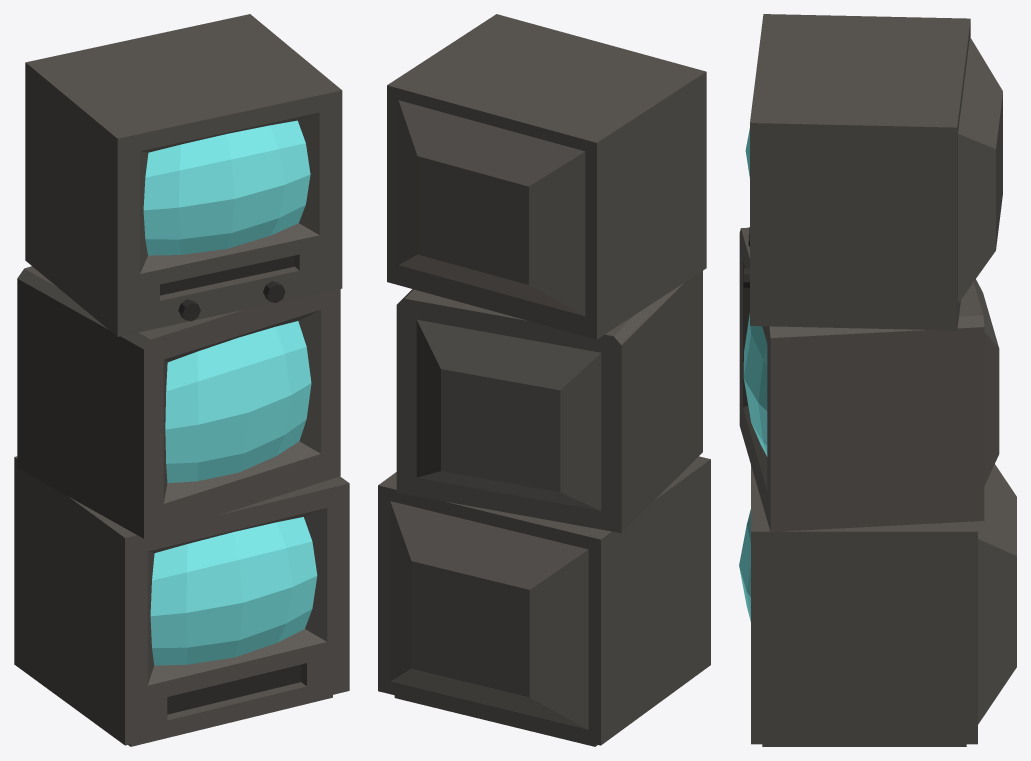
Rendered from TVTower1.fbx.
The picture shows the model from 3 angles, left to right: view 1: azimuth 30°, elevation 25°; view 2: azimuth 150°, elevation 25°; view 3: azimuth 270°, elevation 25°; orthographic projection. The views are drawn at different scales.
Parts seen in each view (by area): view 1: TVTower1; view 2: TVTower1; view 3: TVTower1.
Part boxes in pixels (<box>): TVTower1: <box>14,14,349,746</box>; TVTower1: <box>378,14,710,746</box>; TVTower1: <box>739,14,1016,746</box>.
Size of the model in its own units: 57 by 142 by 57.11.
